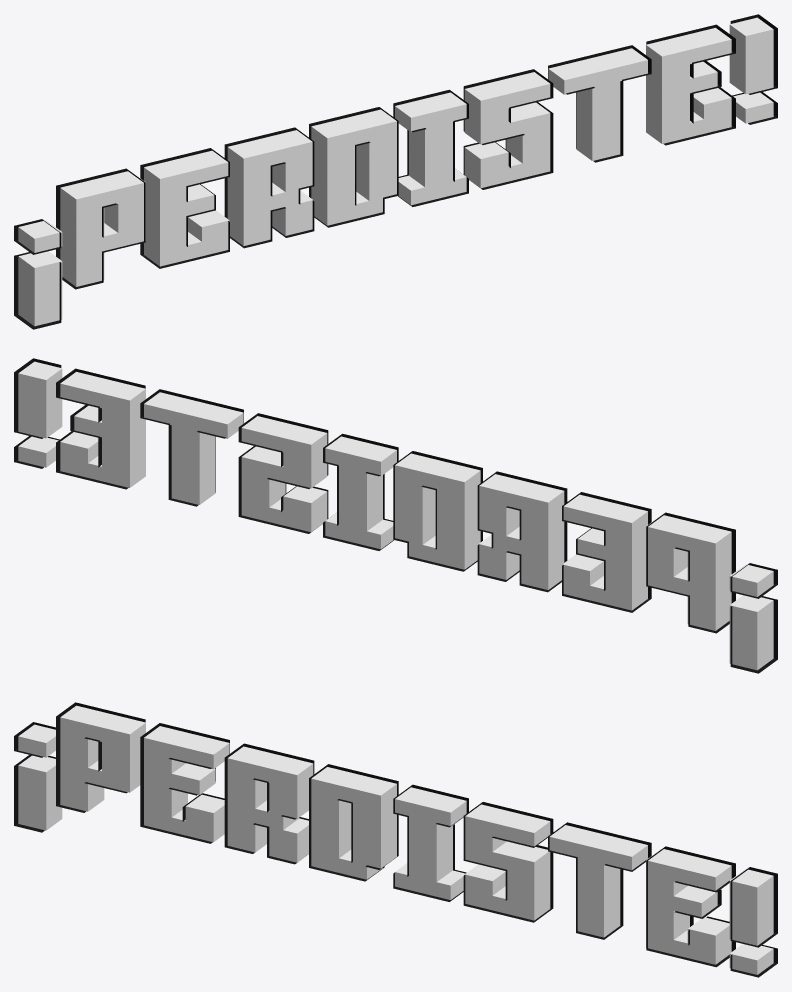
The model's file is Perdiste_v3.fbx.
The picture shows the model from 3 angles, top to bottom: view 1: azimuth 30°, elevation 25°; view 2: azimuth 150°, elevation 25°; view 3: azimuth 330°, elevation 25°; orthographic projection.
Visible parts, largest first — view 1: PERDISTE_V3, PERDISTE_V3_outline; view 2: PERDISTE_V3, PERDISTE_V3_outline; view 3: PERDISTE_V3, PERDISTE_V3_outline.
Boxes of the visible parts, x1,y1,x2,y2 form: PERDISTE_V3: (18, 17, 773, 326); PERDISTE_V3_outline: (14, 14, 777, 329); PERDISTE_V3: (18, 361, 773, 670); PERDISTE_V3_outline: (14, 358, 777, 673); PERDISTE_V3: (18, 705, 773, 974); PERDISTE_V3_outline: (14, 702, 777, 977).
Bounding box in the file's own units: 334 × 51.25 × 15.
2 materials, 2 textured.
